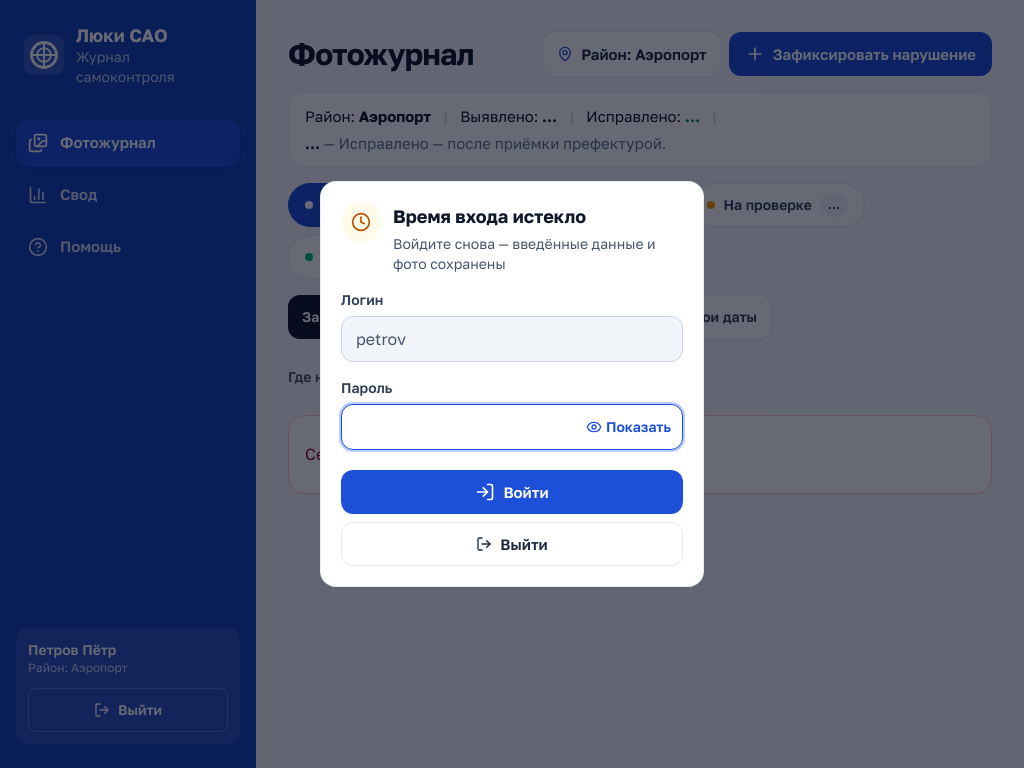
Test case: ReloginDialog › неверный пароль — ошибка в окне, окно остаётся; верный — журнал загружается заново
This screenshot has width=1024, height=768.
Type "wrong" into the password field labelled "Пароль" at (512, 427), box left=341, top=404, right=683, bottom=450
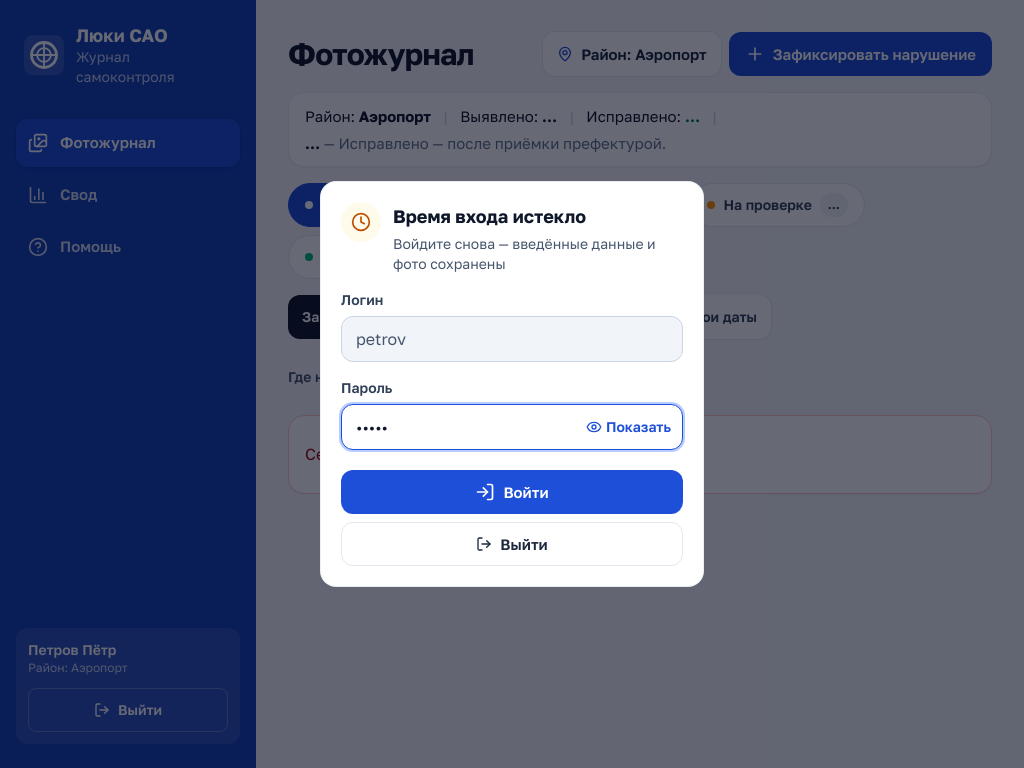
Click the button "Войти" at (512, 492), box left=341, top=470, right=683, bottom=514
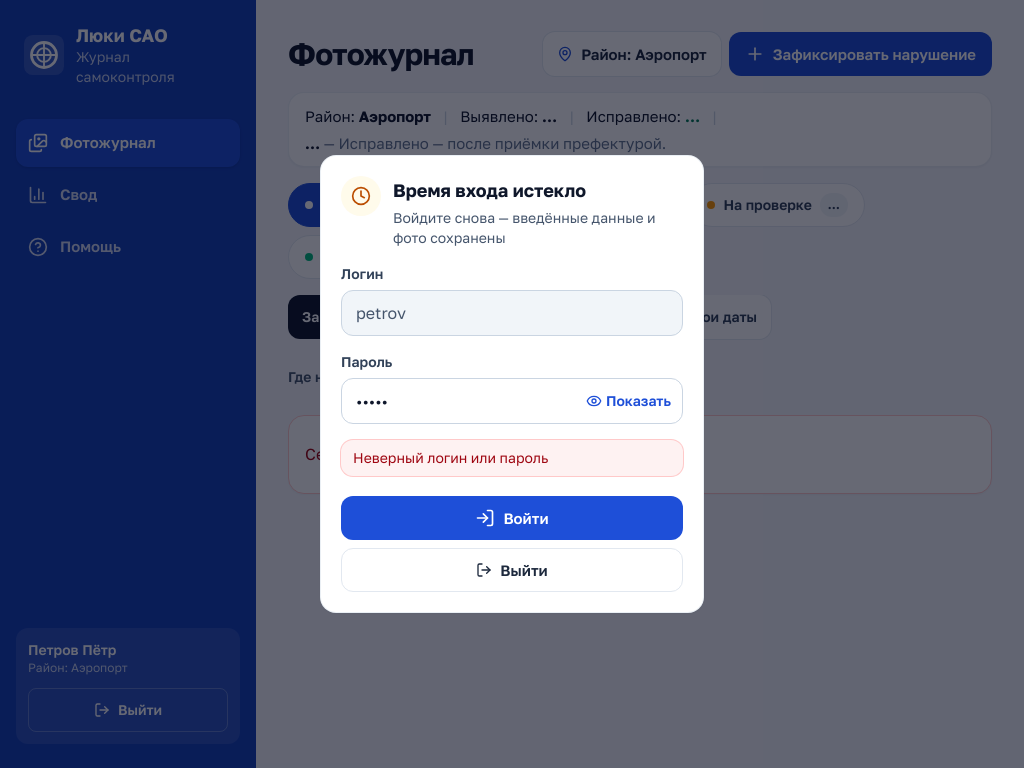
Expected: the dialog "Время входа истекло" is shown, left=320, top=155, right=704, bottom=613
Expected: the message reads "Неверный логин или пароль", left=353, top=449, right=548, bottom=466
Type "secret" into the password field labelled "Пароль" at (512, 401), box left=341, top=378, right=683, bottom=424
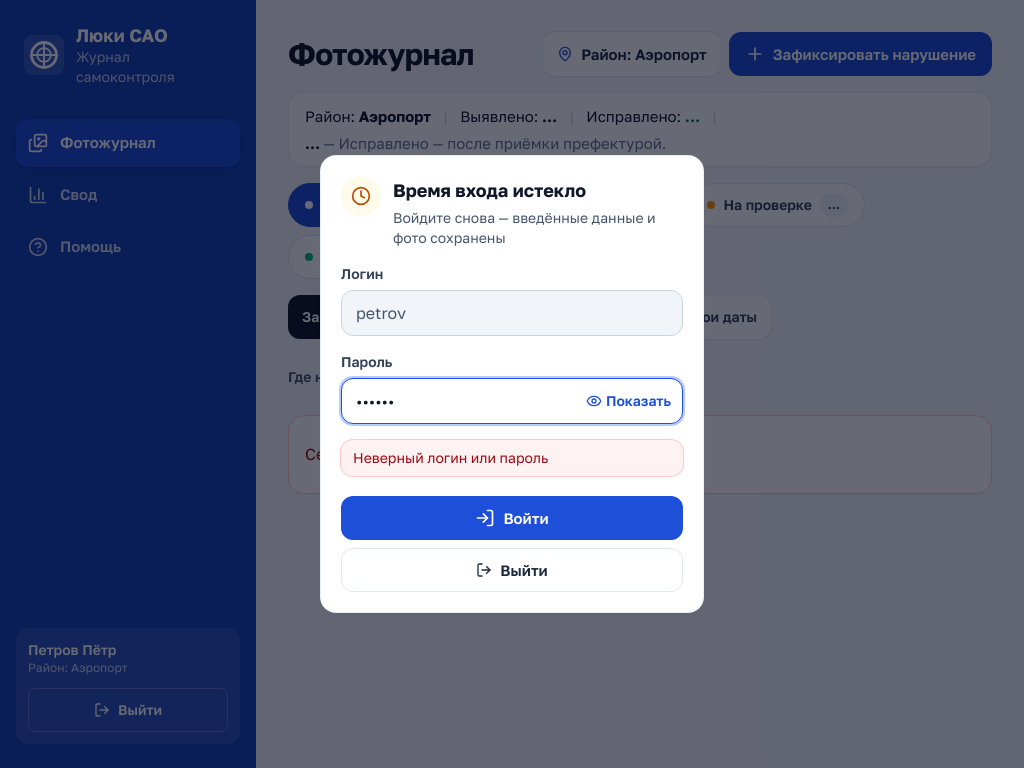
Click the button "Войти" at (512, 518), box left=341, top=496, right=683, bottom=540
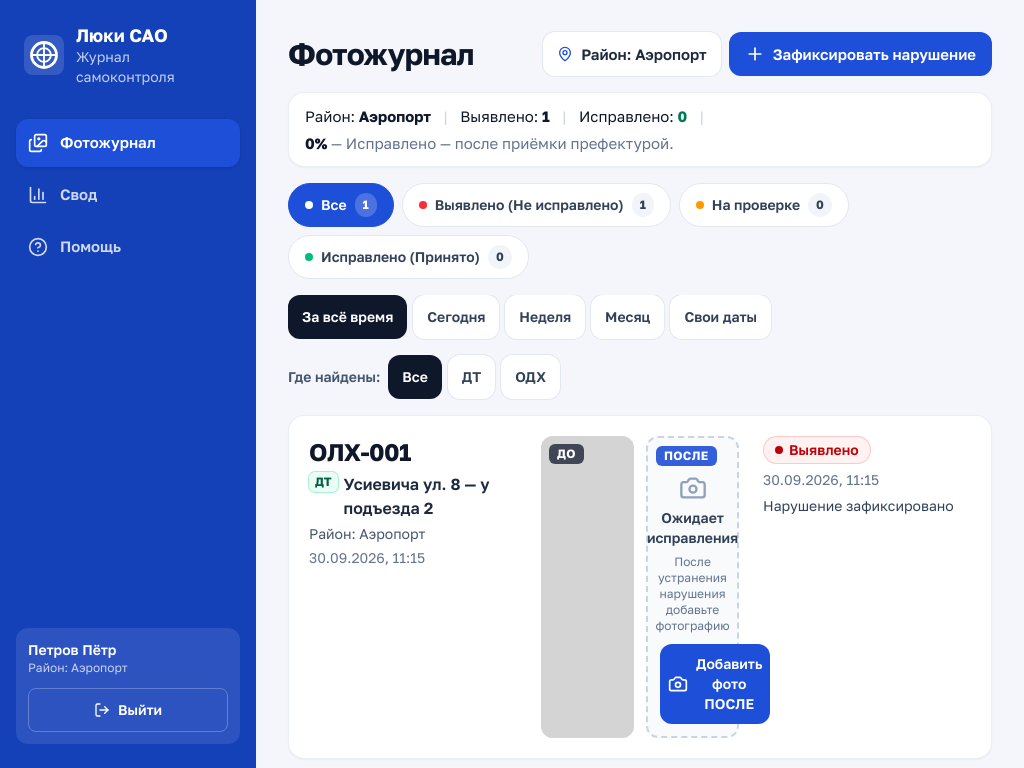
Expected: the link "ОЛХ-001" is shown, left=309, top=436, right=411, bottom=468
Expected: the dialog is gone
